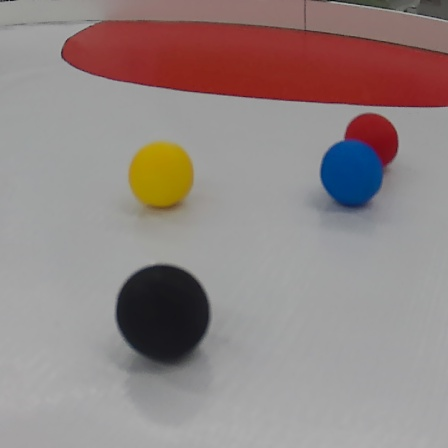black: (115, 262, 223, 360)
blue: (315, 136, 384, 210)
red: (344, 111, 403, 164)
red_base: (66, 12, 448, 112)
yellow: (128, 139, 194, 208)
